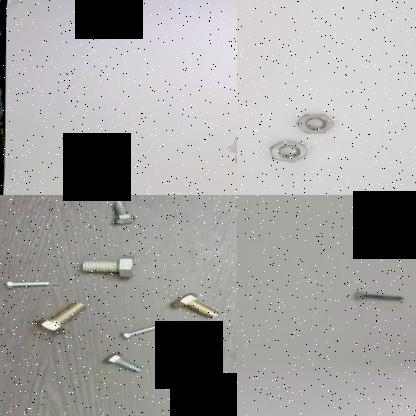Bolts: (31, 296, 94, 336), (67, 252, 142, 282), (168, 290, 222, 320), (102, 350, 146, 378), (108, 195, 138, 229), (118, 320, 166, 340), (352, 288, 408, 304), (0, 276, 54, 290), (229, 125, 237, 156)
NUTS: (263, 140, 313, 164), (293, 109, 337, 136)
